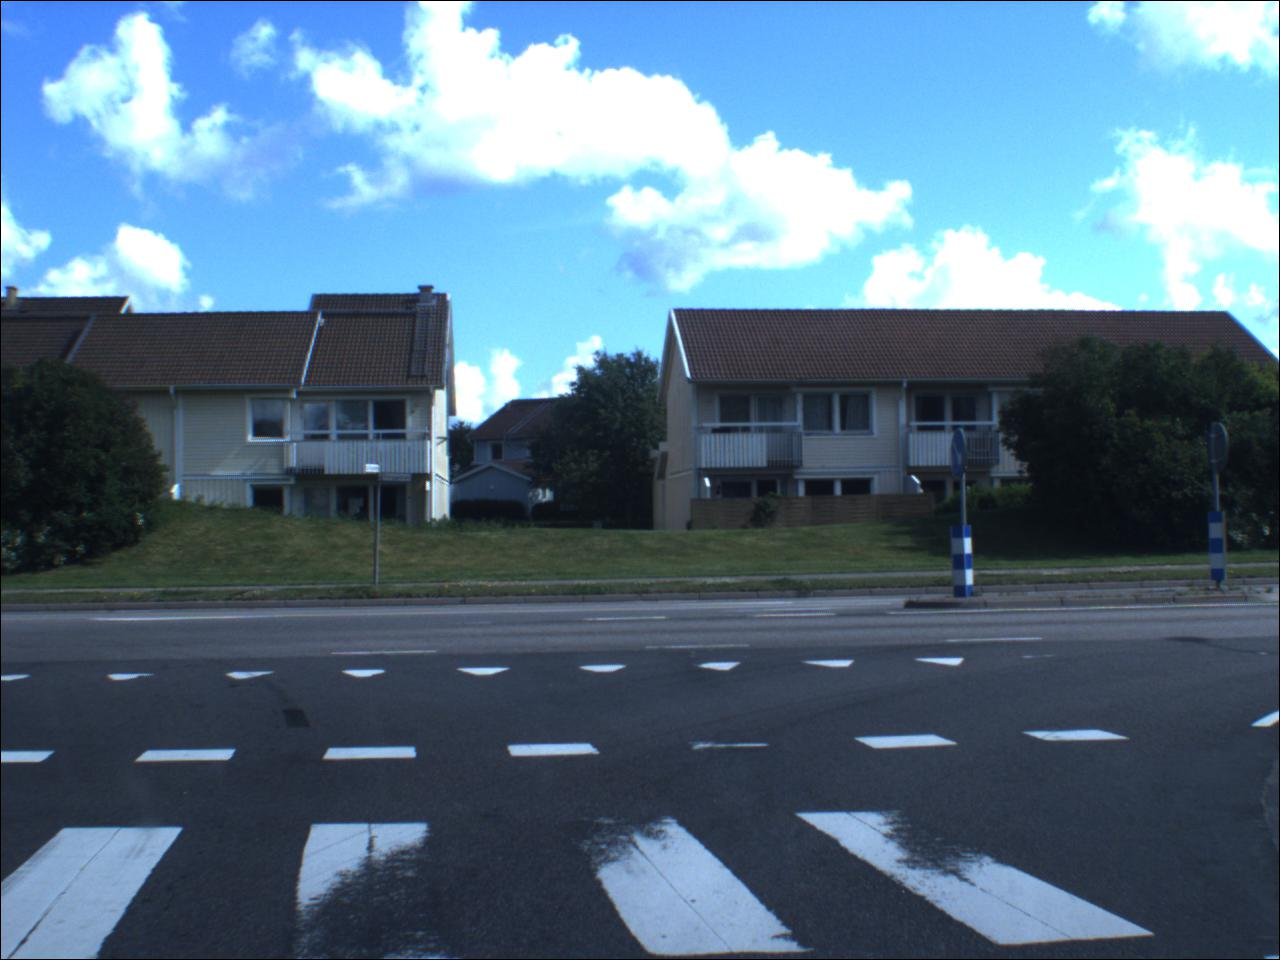PASS_RIGHT_SIDE: (952, 429, 969, 479)
